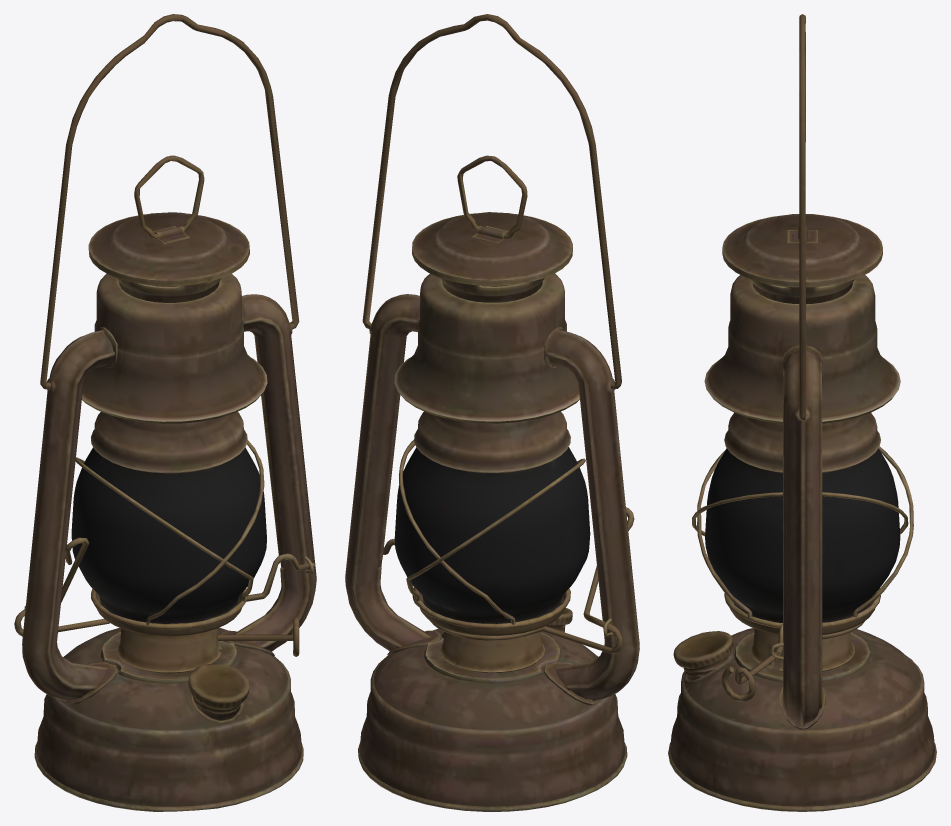
File: Lantern_01.glb
The picture shows the model from 3 angles, left to right: view 1: azimuth 30°, elevation 25°; view 2: azimuth 150°, elevation 25°; view 3: azimuth 270°, elevation 25°; orthographic projection.
Visible parts, largest first — view 1: Lantern_01, Lantern_01_glass; view 2: Lantern_01, Lantern_01_glass; view 3: Lantern_01, Lantern_01_glass.
Part boxes in pixels (x1,y1,x2,y2): Lantern_01: [14, 14, 316, 811]; Lantern_01_glass: [71, 447, 266, 623]; Lantern_01: [345, 14, 639, 811]; Lantern_01_glass: [394, 447, 590, 623]; Lantern_01: [668, 14, 936, 811]; Lantern_01_glass: [705, 448, 900, 622].
Bounding box in the file's own units: 0.1221 × 0.2942 × 0.0971.
Materials: 2 (2 with a texture image).
